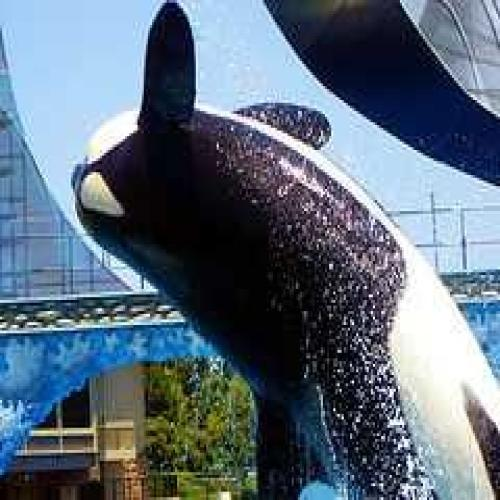killer_whale-endangered: (56, 0, 471, 461)
